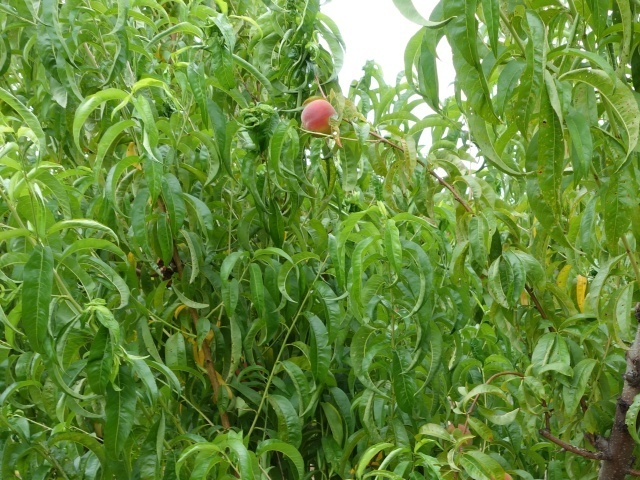peach: (299, 96, 341, 140), (445, 420, 476, 452)
